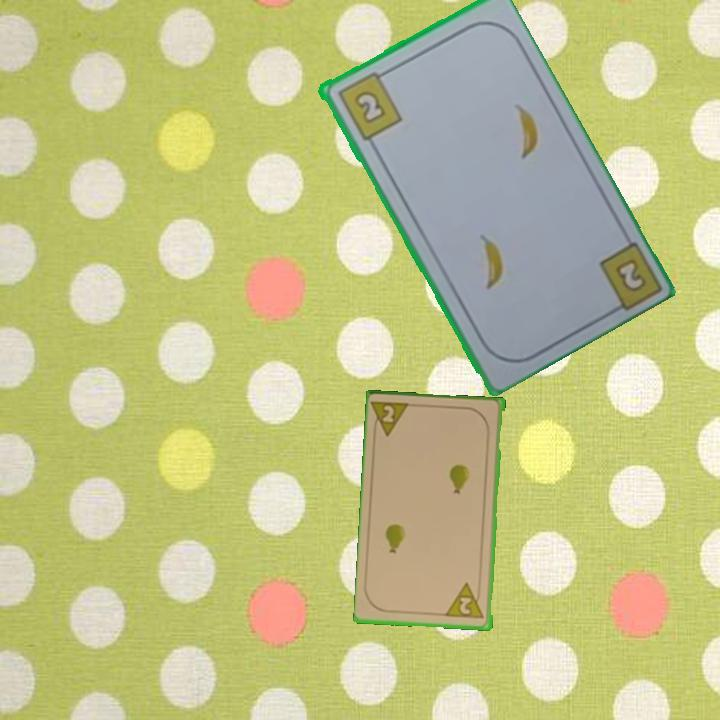2b: (333, 67, 405, 143), (611, 254, 649, 295)
2p: (370, 398, 415, 440), (444, 580, 487, 622)
